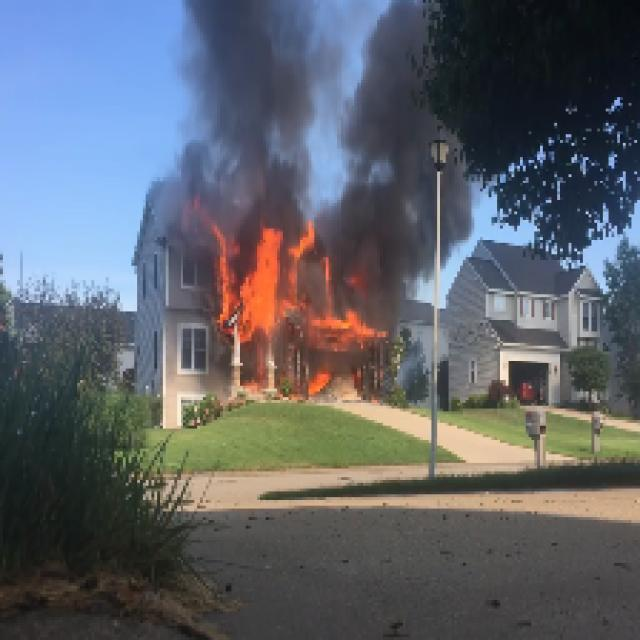Fire: (223, 234, 290, 328)
Smoke: (356, 36, 435, 304), (205, 10, 292, 225)
